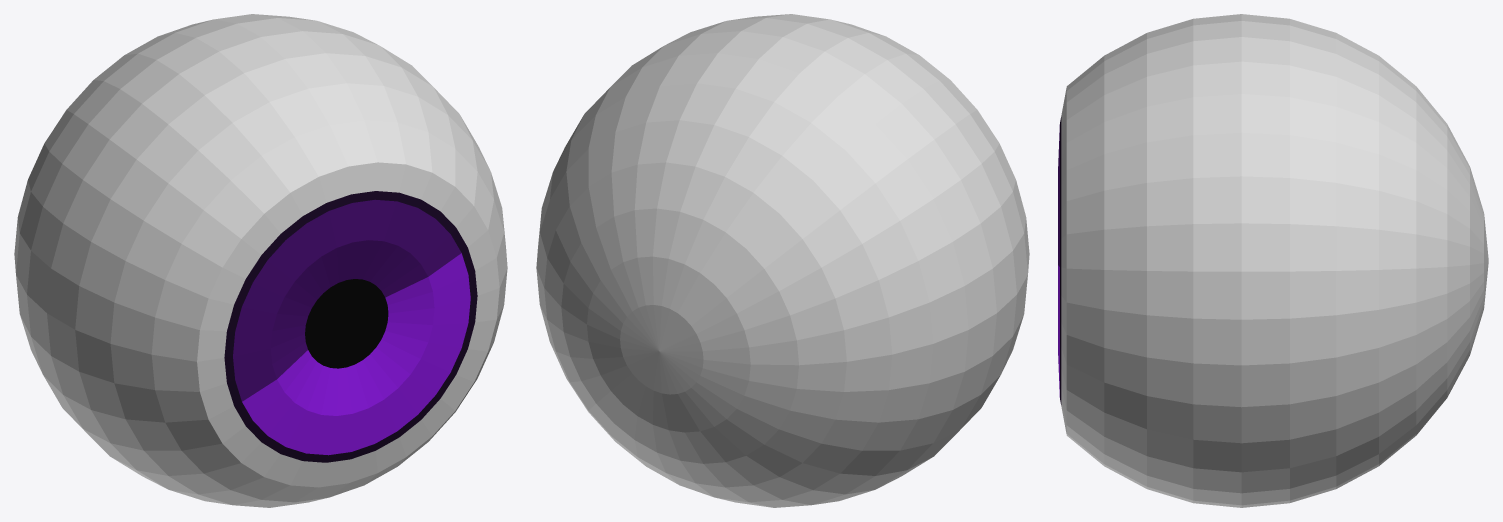
The model's file is olhoroxo.fbx.
3 renders of one model, left to right at view 1: azimuth 30°, elevation 25°; view 2: azimuth 150°, elevation 25°; view 3: azimuth 270°, elevation 25°, orthographic.
Parts seen in each view (by area): view 1: Sphere; view 2: Sphere; view 3: Sphere.
Part boxes in pixels (box(x1,y1,x2,y2)): Sphere: box(14, 14, 507, 507); Sphere: box(536, 14, 1029, 507); Sphere: box(1058, 14, 1488, 507).
Bounding box in the file's own units: 200 × 200 × 174.
